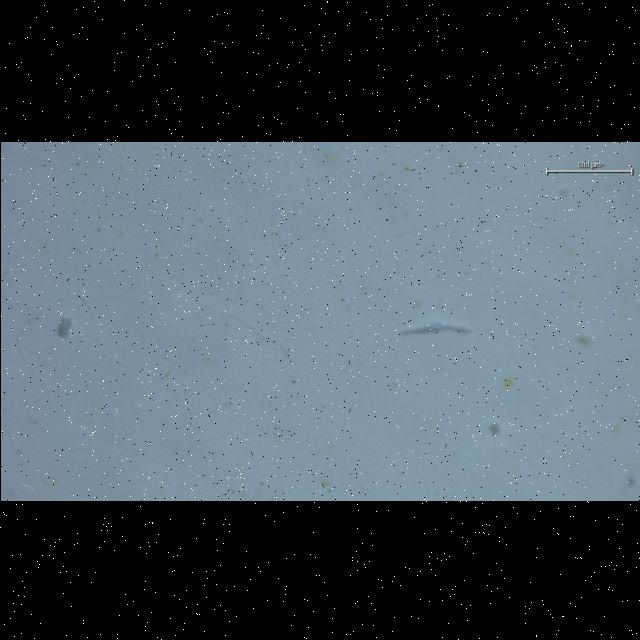Fibre: (401, 320, 469, 333)
Fragment: (56, 316, 71, 337)
